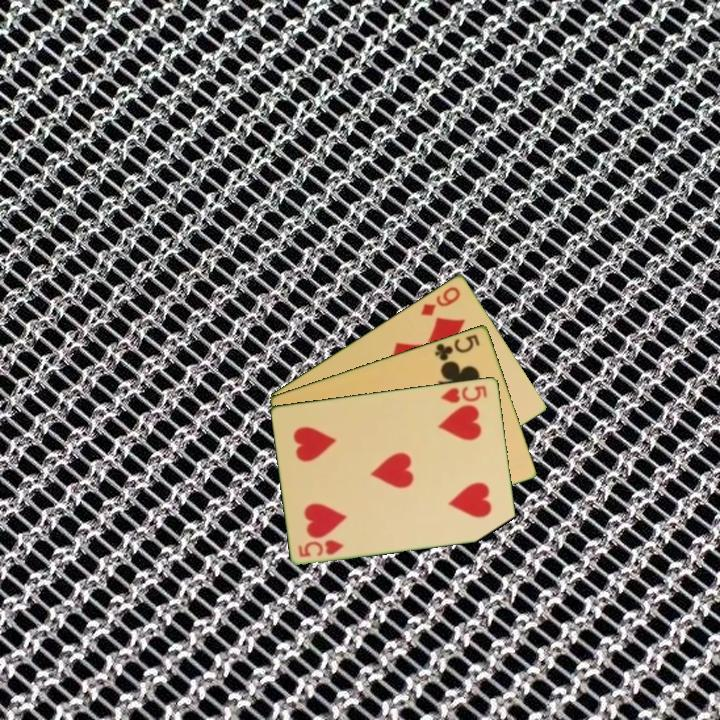5c: (431, 331, 483, 363)
5h: (438, 381, 490, 406), (295, 536, 347, 560)
9d: (417, 282, 463, 319)
